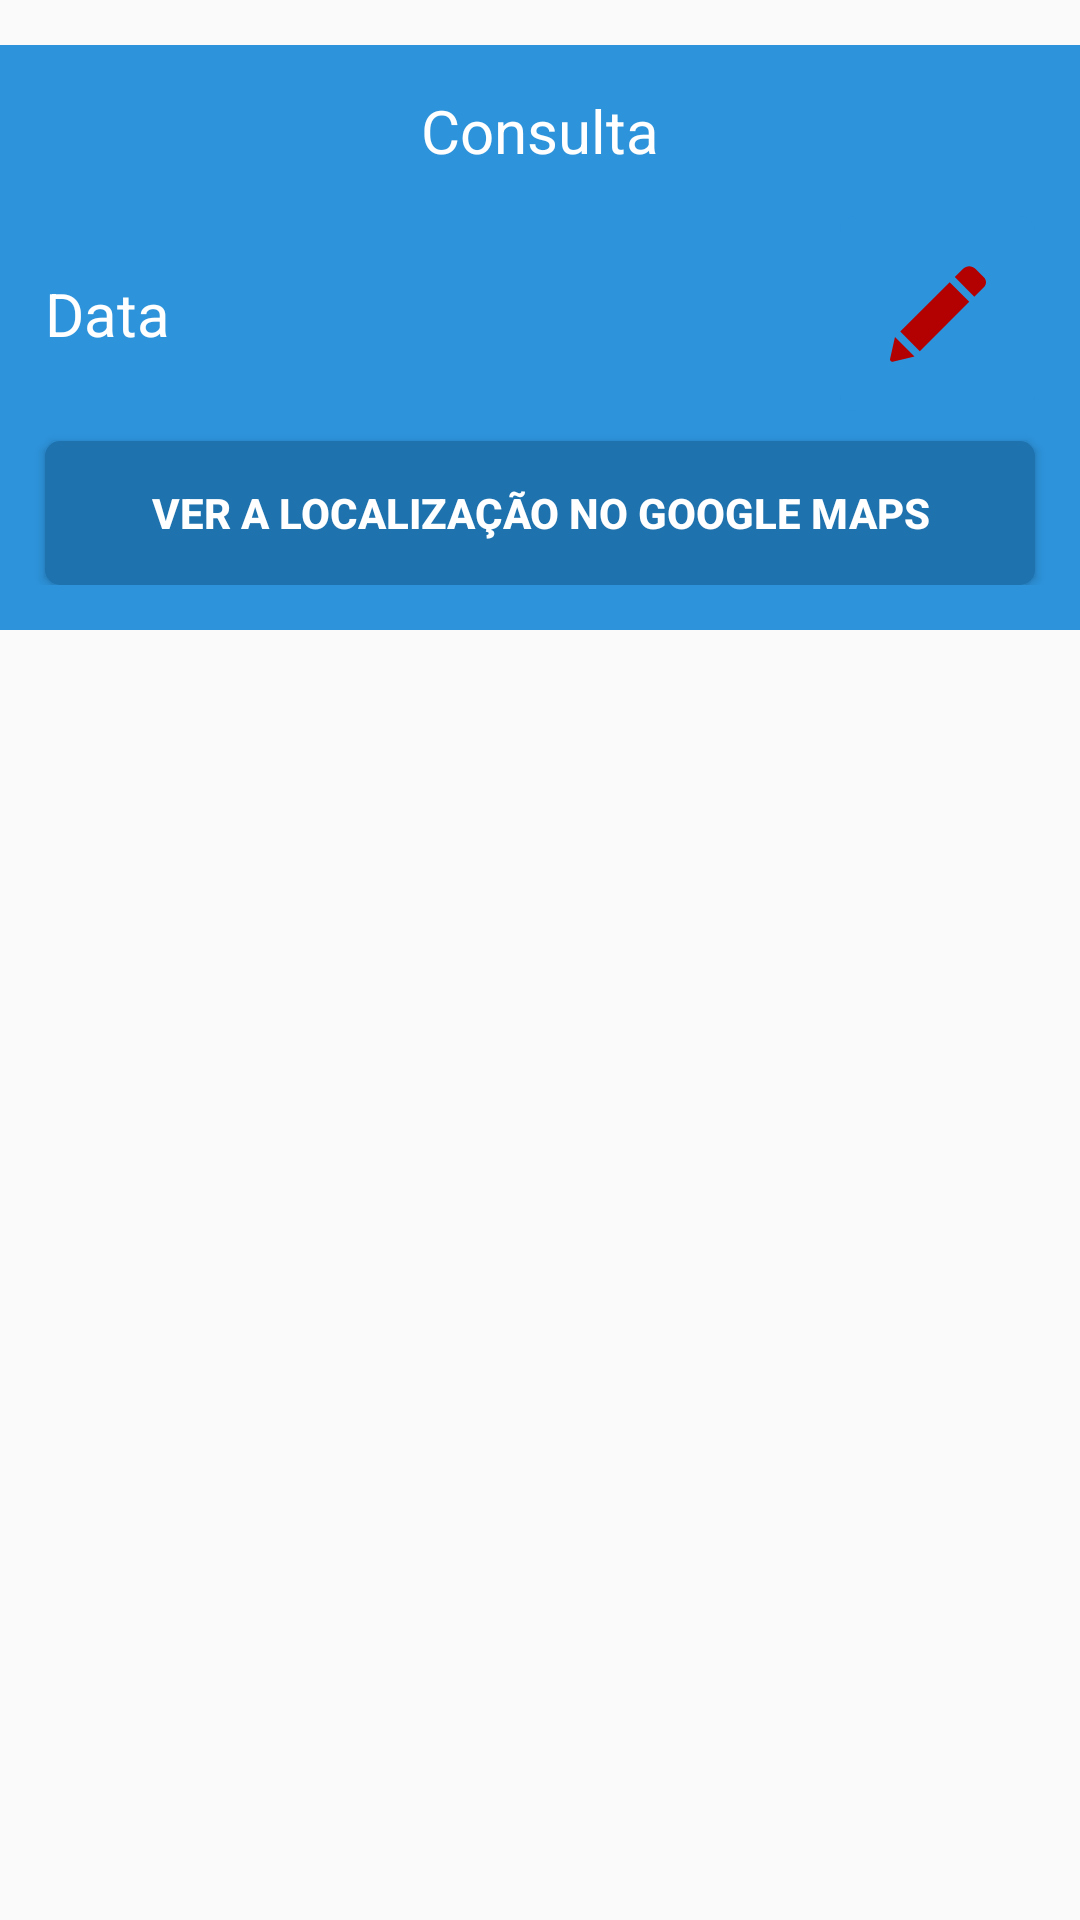

Screen size 1080 × 1920. Icon name, then its center in pixels as [x,y]:
edit: [938,314]
